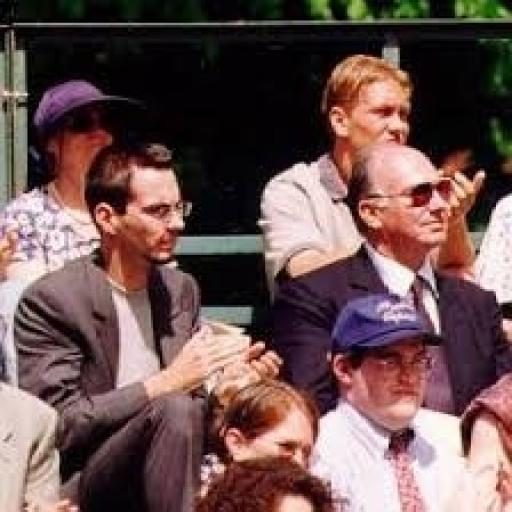clapping: (12, 134, 284, 510), (247, 54, 498, 320)
